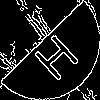H: (25, 25, 82, 83)
